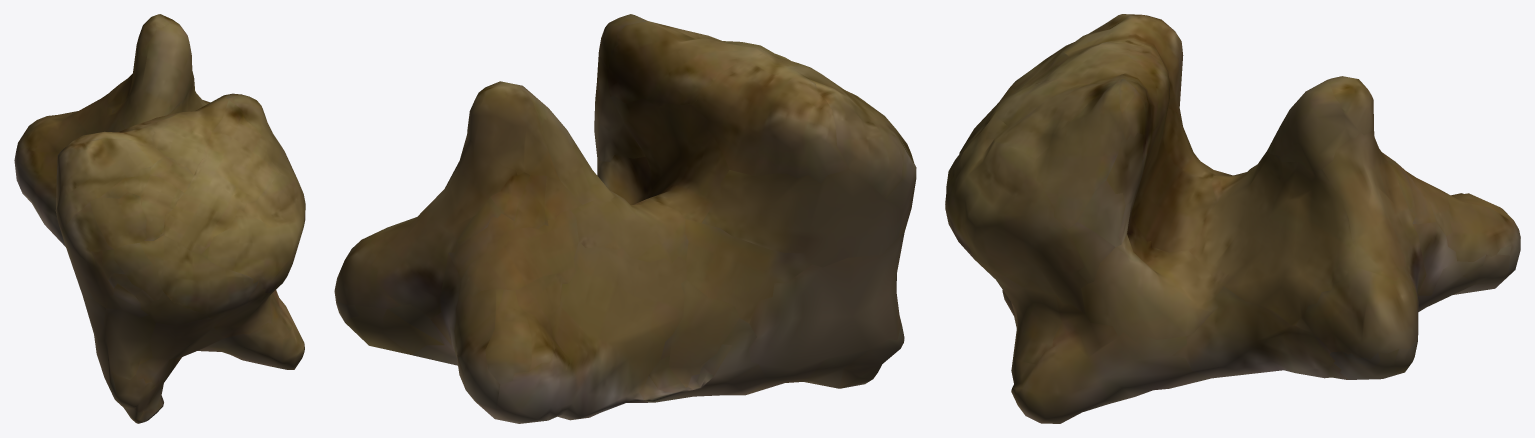
Rendered from hall.glb.
3 renders of one model, left to right at view 1: azimuth 30°, elevation 25°; view 2: azimuth 150°, elevation 25°; view 3: azimuth 270°, elevation 25°, orthographic. The views are drawn at different scales.
Size of the model in its own units: 0.3995 by 0.3512 by 0.5172.
1 material, 1 textured.
